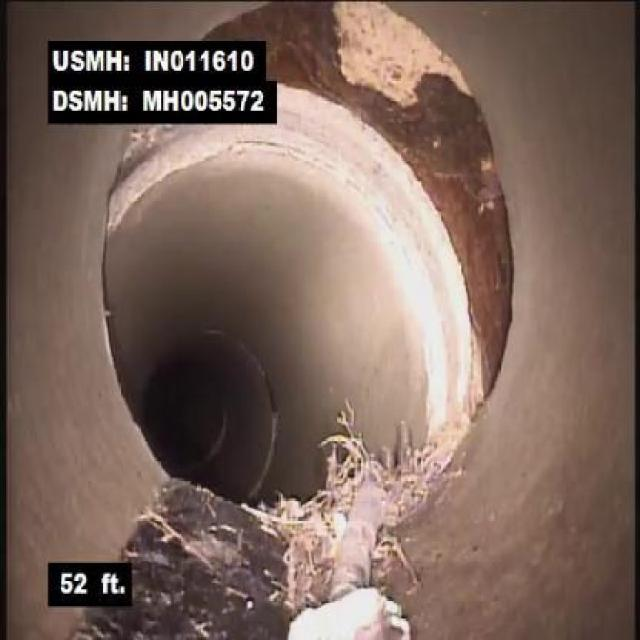Hole: (398, 149, 530, 408), (278, 0, 491, 143)
